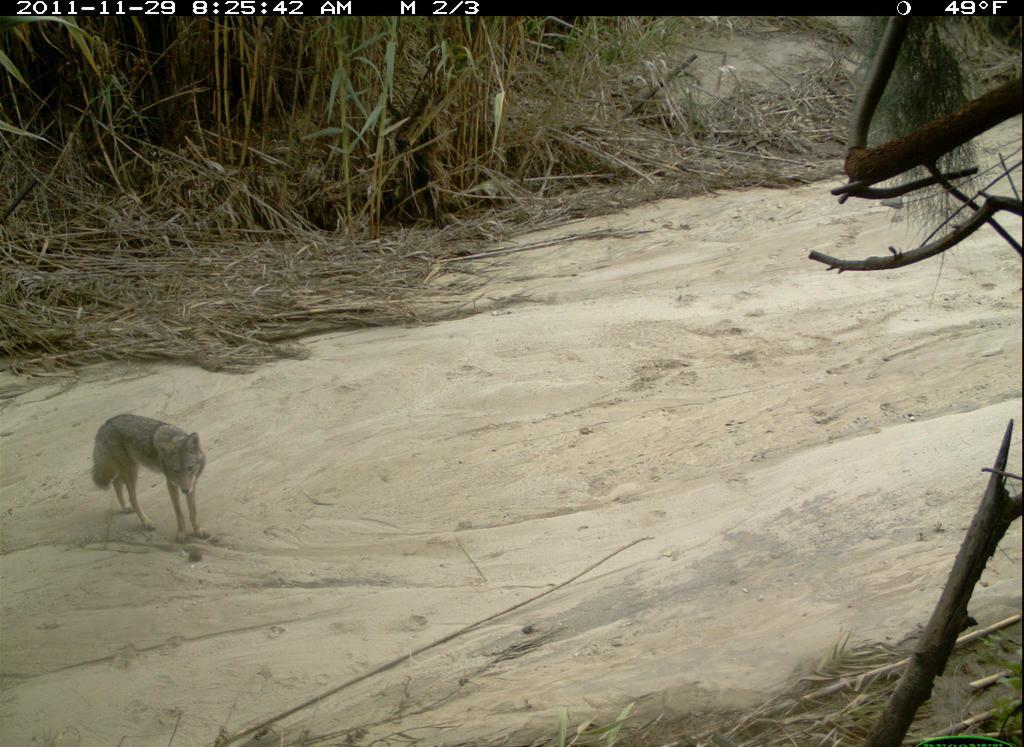coyote: (85, 408, 222, 551)
